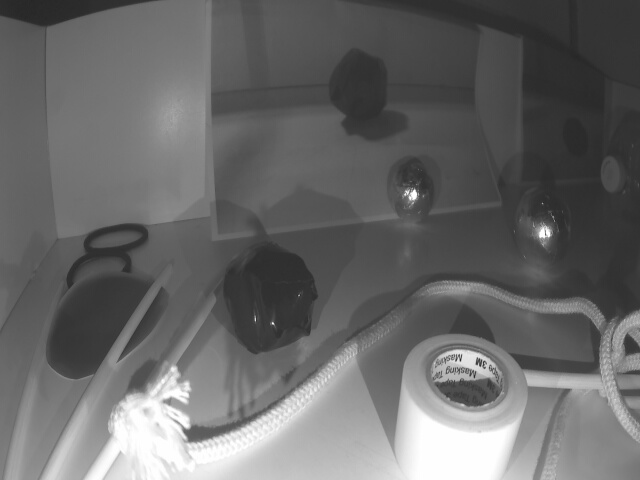Dead: (230, 242, 315, 355)
Live: (515, 185, 571, 268), (390, 157, 437, 222)
